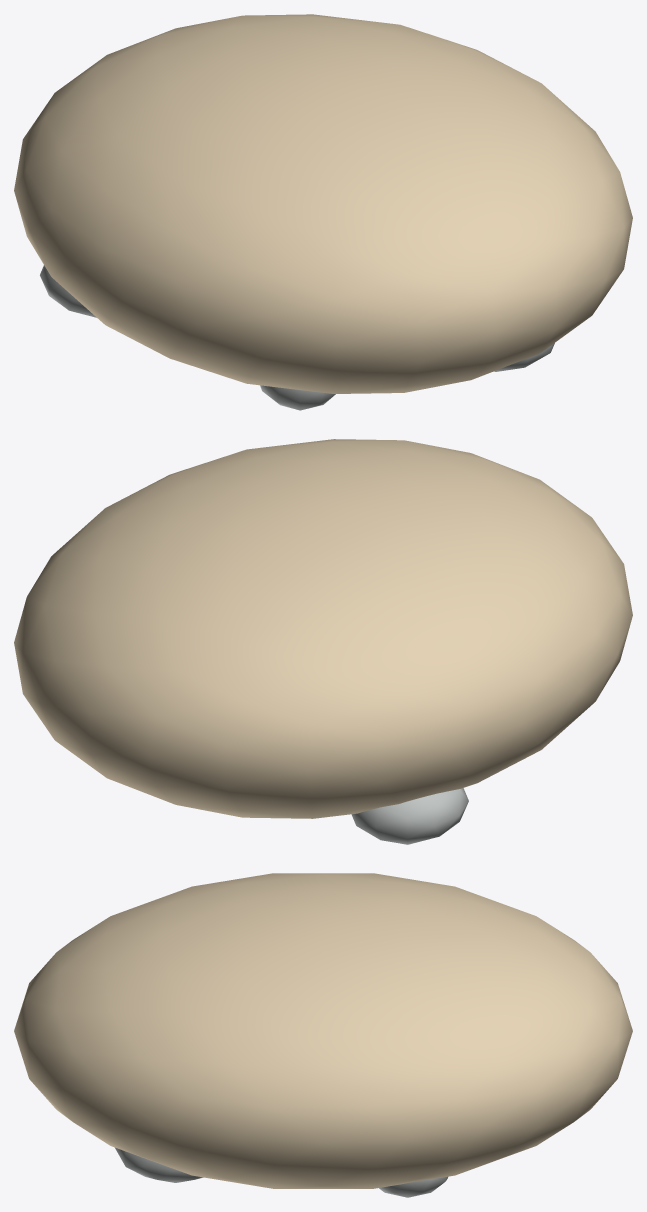
The model's file is photoscan_-_pothole_1.glb.
3 views of the same model, one above another, from view 1: azimuth 30°, elevation 25°; view 2: azimuth 150°, elevation 25°; view 3: azimuth 270°, elevation 25° (orthographic). The views are drawn at different scales.
Visible parts, largest first — view 1: roadside_dirt_mound_mat_00_dirt_pile, roadside_dirt_mound_mat_02_broken_stone_0; view 2: roadside_dirt_mound_mat_00_dirt_pile, roadside_dirt_mound_mat_02_broken_stone_0; view 3: roadside_dirt_mound_mat_00_dirt_pile, roadside_dirt_mound_mat_02_broken_stone_0.
Boxes of the visible parts, box(x1,y1,x2,y2) form: roadside_dirt_mound_mat_00_dirt_pile: box(14, 14, 632, 393); roadside_dirt_mound_mat_02_broken_stone_0: box(40, 265, 554, 410); roadside_dirt_mound_mat_00_dirt_pile: box(14, 439, 632, 818); roadside_dirt_mound_mat_02_broken_stone_0: box(351, 788, 468, 844); roadside_dirt_mound_mat_00_dirt_pile: box(14, 873, 632, 1188); roadside_dirt_mound_mat_02_broken_stone_0: box(115, 1147, 447, 1197).
Size of the model in its own units: 1.5 by 0.72 by 1.76.
